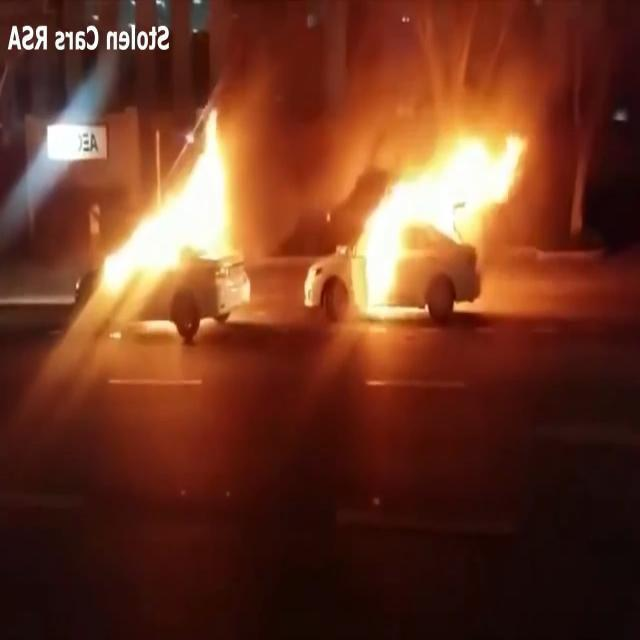fire: (343, 120, 533, 318), (105, 88, 239, 284)
